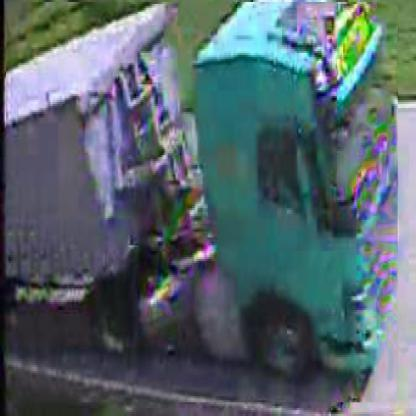container: (7, 3, 400, 405)
